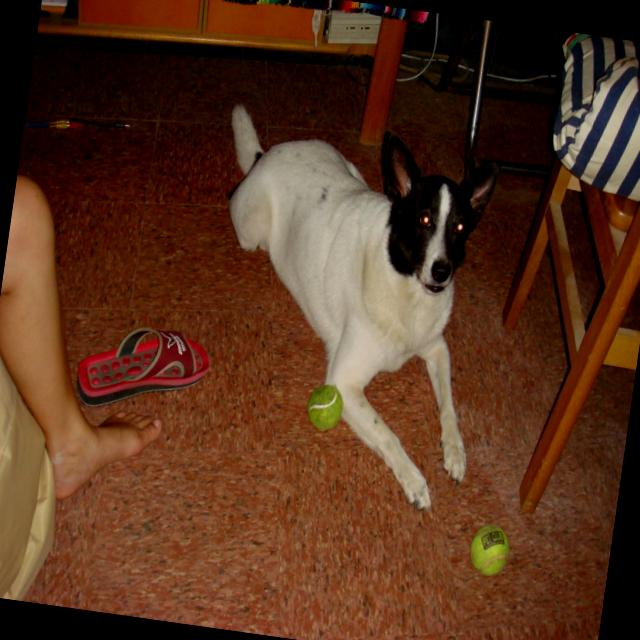Tennis ball: (465, 522, 511, 578), (303, 382, 348, 438)
